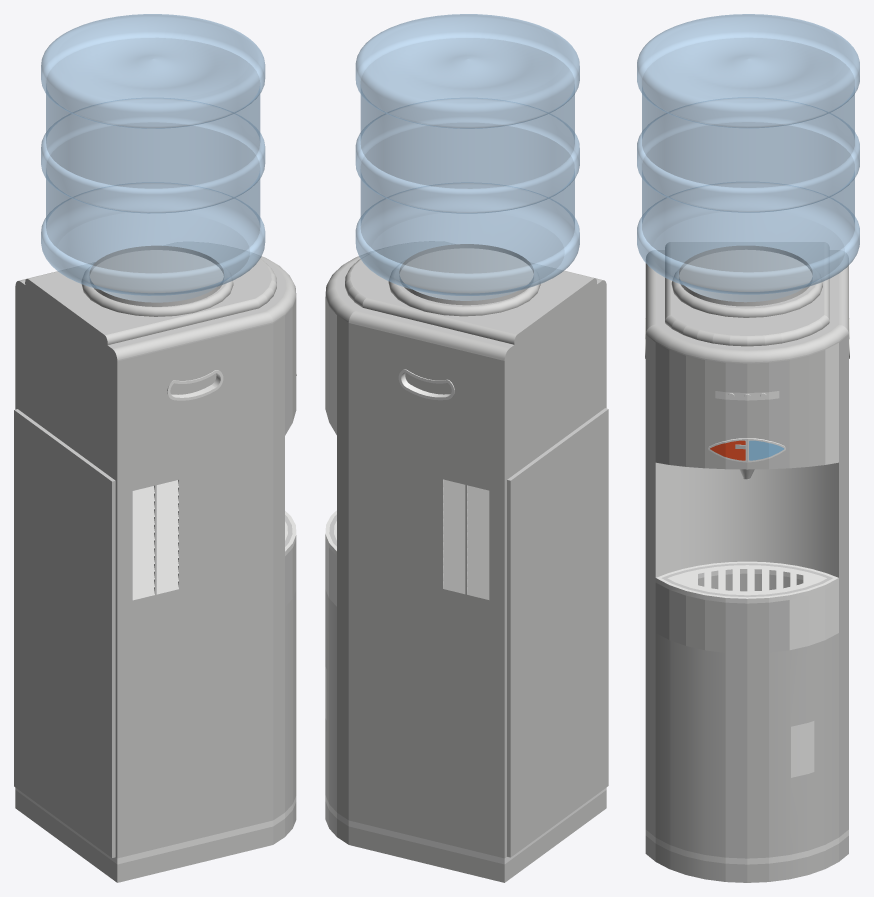
File: fontaine-a-eau.glb
3 renders of one model, left to right at view 1: azimuth 30°, elevation 25°; view 2: azimuth 150°, elevation 25°; view 3: azimuth 270°, elevation 25°, orthographic.
Visible parts, largest first — view 1: Geom3D (×4); view 2: Geom3D (×4); view 3: Geom3D (×6).
Part boxes in pixels (bbox=[...]): Geom3D (×4): bbox=[14, 14, 296, 882]; Geom3D (×4): bbox=[325, 14, 608, 882]; Geom3D (×6): bbox=[637, 14, 859, 882].
Bounding box in the file's own units: 0.4991 × 1.6 × 0.4249.
